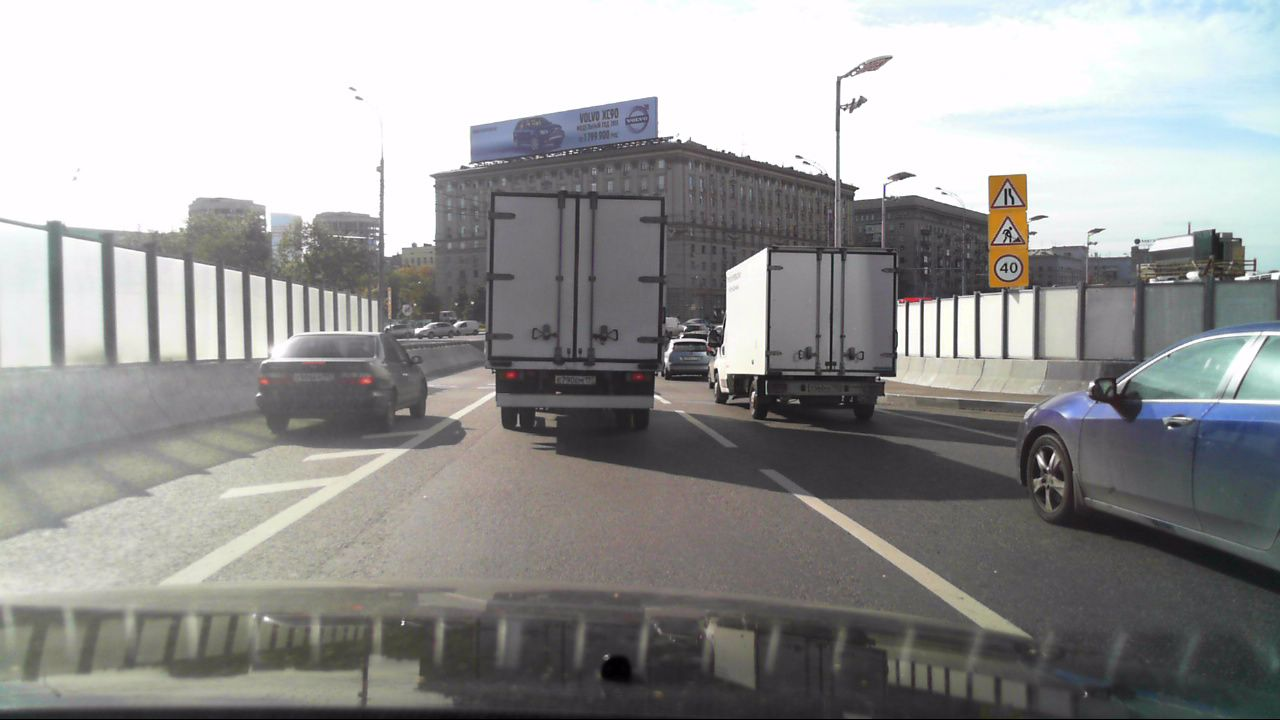speed_warning_40: (990, 253, 1029, 287)
